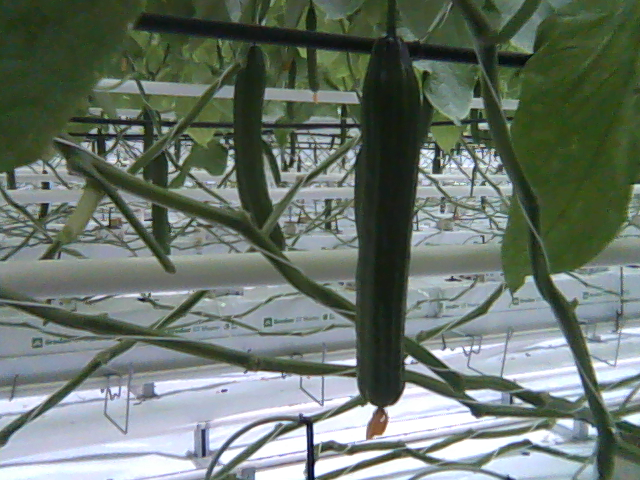concombre: (353, 27, 424, 438)
